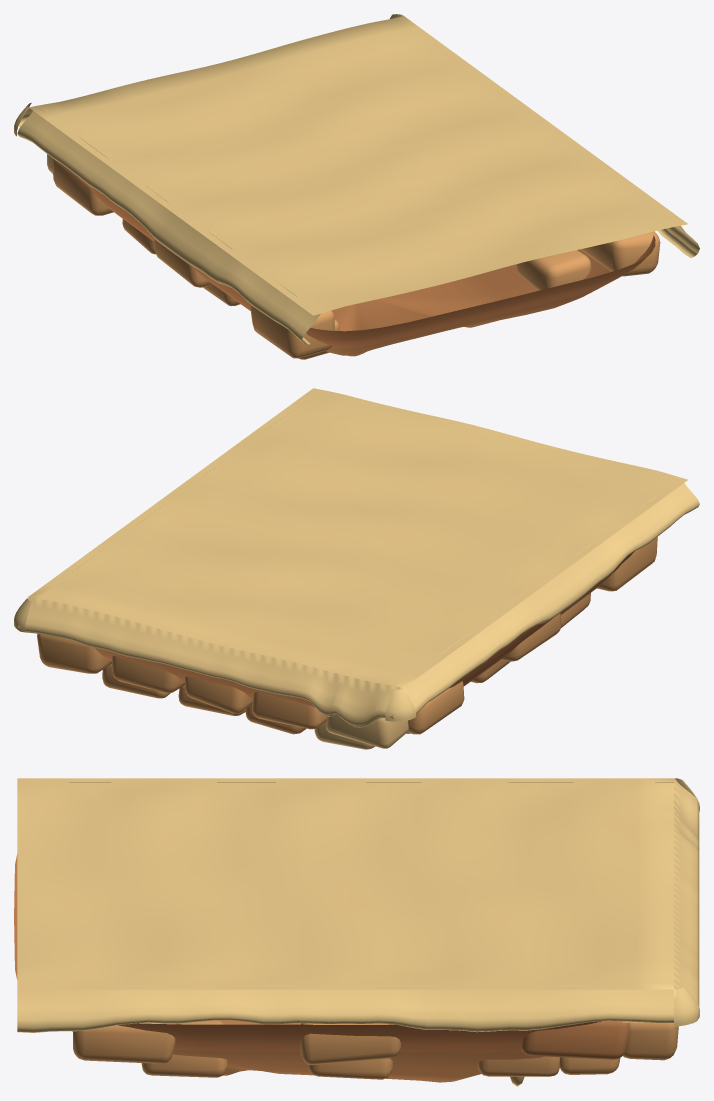
Rendered from SD_G14_Sandstone_Floating.fbx.
The picture shows the model from 3 angles, top to bottom: view 1: azimuth 30°, elevation 25°; view 2: azimuth 150°, elevation 25°; view 3: azimuth 270°, elevation 25°; orthographic projection. The views are drawn at different scales.
Parts seen in each view (by area): view 1: SD_G14_Sandstone_Floating; view 2: SD_G14_Sandstone_Floating; view 3: SD_G14_Sandstone_Floating.
Part boxes in pixels (bbox=[...]): SD_G14_Sandstone_Floating: bbox=[14, 14, 699, 359]; SD_G14_Sandstone_Floating: bbox=[14, 388, 699, 749]; SD_G14_Sandstone_Floating: bbox=[14, 778, 699, 1086].
Size of the model in its own units: 319 by 106 by 412.
